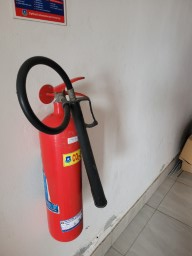fire_extinguisher: (42, 113, 182, 234)
